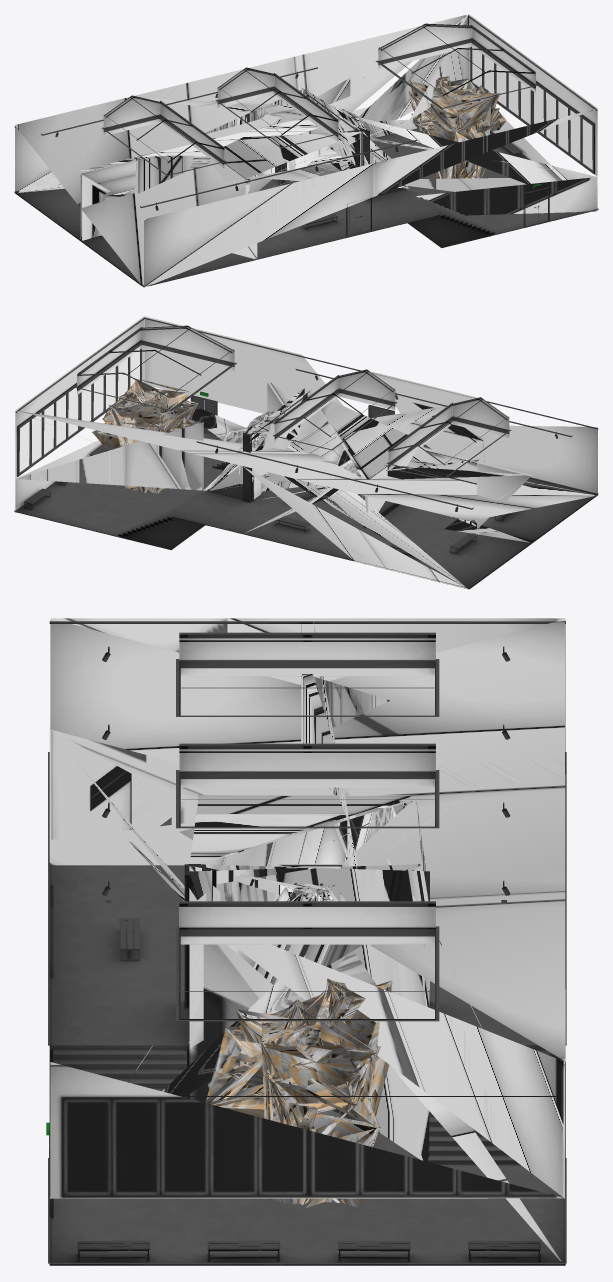
File: fullgallery.glb
3 views of the same model, one above another, from view 1: azimuth 30°, elevation 25°; view 2: azimuth 150°, elevation 25°; view 3: azimuth 270°, elevation 25° (orthographic). The views are drawn at different scales.
Parts seen in each view (by area): view 1: walls, floor, ceiling, Window, tree2, skyLight, corner, Stairs, Doors, chairs; view 2: walls, floor, ceiling, Window, skyLight, tree2, corner, chairs, Stairs, Doors; view 3: walls, floor, ceiling, tree2, skyLight, Stairs, chairs, corner, Window.
Part boxes in pixels (x1,y1,x2,y2): walls: [15, 14, 597, 287]; floor: [15, 128, 598, 287]; ceiling: [103, 23, 535, 168]; Window: [470, 46, 594, 174]; tree2: [408, 76, 506, 178]; skyLight: [101, 24, 537, 175]; corner: [14, 16, 598, 286]; Stairs: [382, 150, 494, 235]; Doors: [346, 187, 549, 237]; chairs: [278, 143, 522, 229]; walls: [15, 316, 597, 589]; floor: [14, 432, 597, 589]; ceiling: [77, 325, 509, 470]; Window: [17, 348, 141, 476]; skyLight: [75, 326, 511, 478]; tree2: [92, 378, 200, 493]; corner: [14, 317, 598, 588]; chairs: [24, 444, 509, 555]; Stairs: [118, 460, 228, 536]; Doors: [190, 395, 394, 436]; walls: [49, 618, 565, 1261]; floor: [49, 865, 565, 1265]; ceiling: [179, 638, 435, 944]; tree2: [205, 978, 392, 1207]; skyLight: [176, 632, 439, 1021]; Stairs: [53, 1049, 562, 1164]; chairs: [77, 917, 540, 1261]; corner: [48, 621, 566, 1263]; Window: [64, 1096, 556, 1195].
Bounding box in the file's own units: 30.6 × 9.15 × 15.12.
5 materials, 5 textured.
